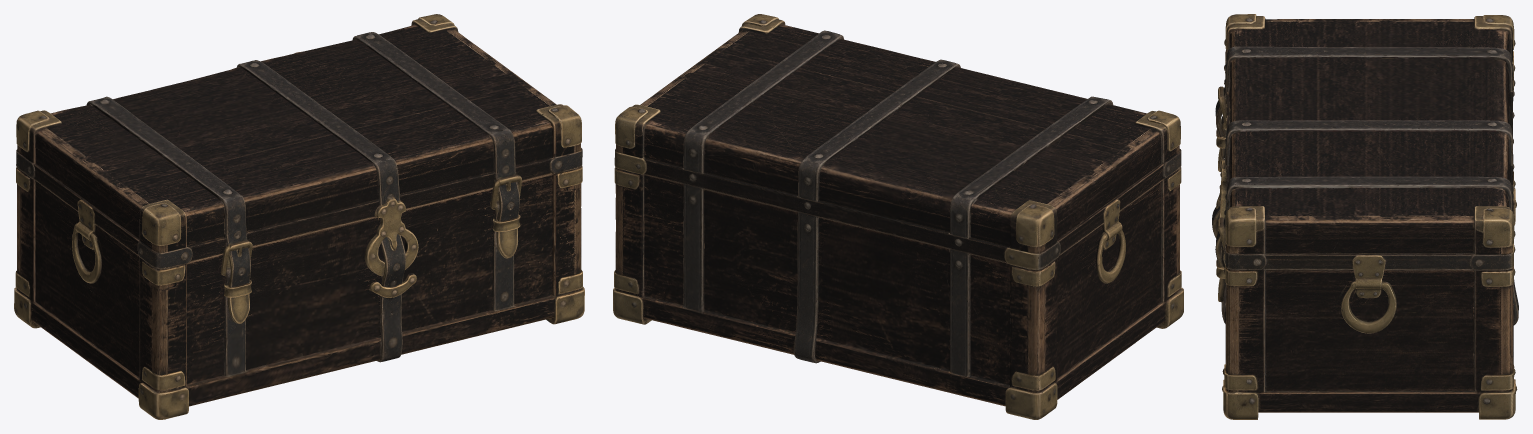
File: chest-m7.glb
The picture shows the model from 3 angles, left to right: view 1: azimuth 30°, elevation 25°; view 2: azimuth 150°, elevation 25°; view 3: azimuth 270°, elevation 25°; orthographic projection.
Visible parts, largest first — view 1: M7 chest-m7; view 2: M7 chest-m7; view 3: M7 chest-m7.
Part boxes in pixels (<box>): M7 chest-m7: <box>14,14,584,419</box>; M7 chest-m7: <box>613,14,1183,419</box>; M7 chest-m7: <box>1212,14,1518,419</box>.
Size of the model in its own units: 2.21 by 1 by 1.36.
1 material, 1 textured.
